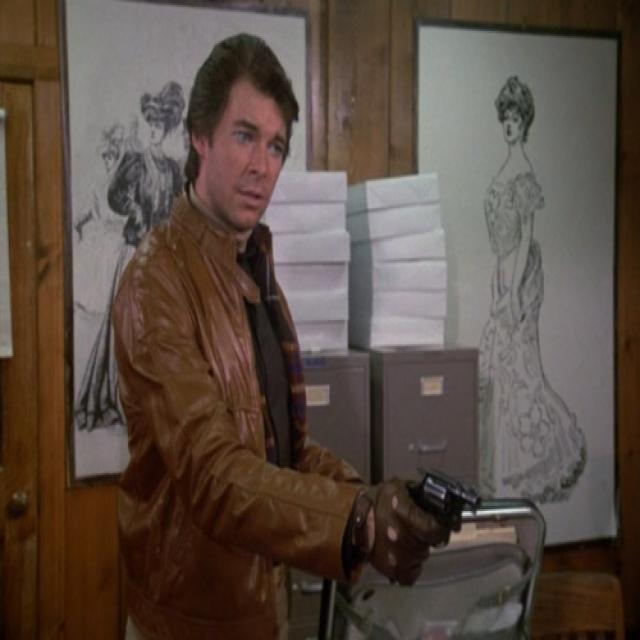weapons: (386, 453, 492, 568)
